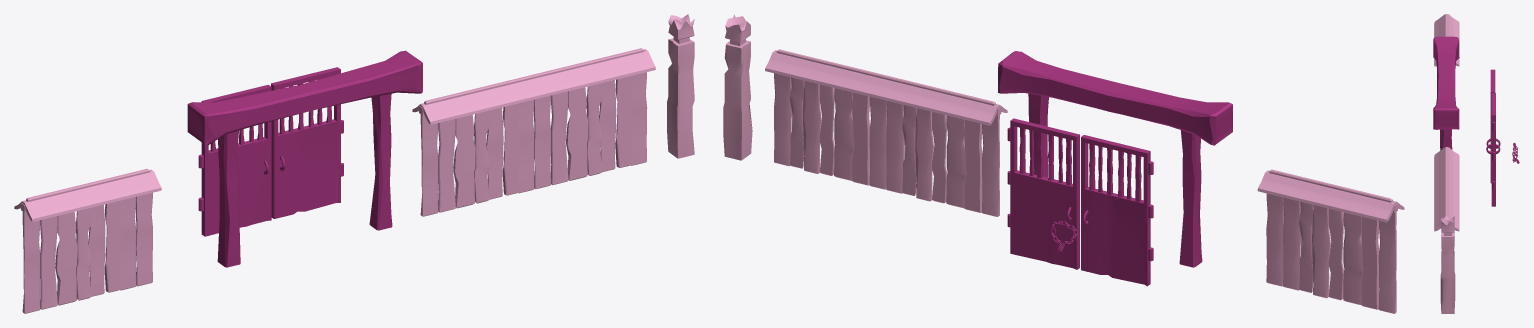
File: 3dm_StairwayGate_01a.fbx
3 renders of one model, left to right at view 1: azimuth 30°, elevation 25°; view 2: azimuth 150°, elevation 25°; view 3: azimuth 270°, elevation 25°, orthographic. The views are drawn at different scales.
Visible parts, largest first — view 1: pCube1, g2, pCube24, pCube28, pCube27, pCube20; view 2: pCube1, g2, pCube24, pCube27, pCube28, pCube20; view 3: pCube24, pCube1, pCube20, pCube28, g2, pCube27, pTorus7.
Part boxes in pixels (bbox=[...]): pCube1: bbox=[412, 48, 655, 216]; g2: bbox=[14, 168, 161, 313]; pCube24: bbox=[187, 50, 422, 267]; pCube28: bbox=[271, 67, 343, 218]; pCube27: bbox=[198, 84, 271, 236]; pCube20: bbox=[667, 14, 694, 158]; pCube1: bbox=[765, 49, 1007, 216]; g2: bbox=[1257, 169, 1404, 313]; pCube24: bbox=[998, 51, 1232, 267]; pCube27: bbox=[1081, 135, 1153, 286]; pCube28: bbox=[1007, 118, 1079, 269]; pCube20: bbox=[723, 14, 752, 160]; pCube24: bbox=[1433, 36, 1459, 150]; pCube1: bbox=[1434, 147, 1459, 231]; pCube20: bbox=[1440, 215, 1455, 313]; pCube28: bbox=[1486, 93, 1500, 206]; g2: bbox=[1434, 14, 1459, 66]; pCube27: bbox=[1486, 69, 1500, 183]; pTorus7: bbox=[1512, 142, 1519, 163].
Size of the model in its own units: 1720 by 404 by 281.
